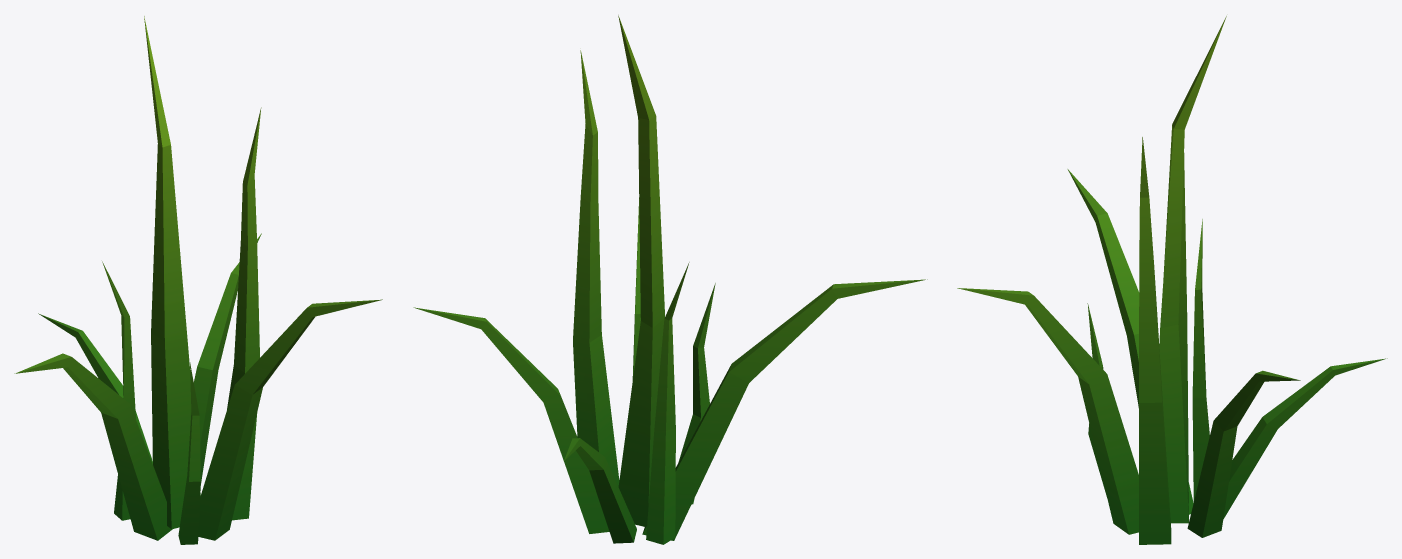
The model's file is Grass_03.fbx.
The picture shows the model from 3 angles, left to right: view 1: azimuth 30°, elevation 25°; view 2: azimuth 150°, elevation 25°; view 3: azimuth 270°, elevation 25°; orthographic projection. The views are drawn at different scales.
Parts seen in each view (by area): view 1: Grass_03; view 2: Grass_03; view 3: Grass_03.
Part boxes in pixels (left/top/right/bottom): Grass_03: left=14, top=16, right=382, bottom=544; Grass_03: left=413, top=15, right=927, bottom=544; Grass_03: left=957, top=16, right=1387, bottom=544.
Size of the model in its own units: 58.43 by 76.49 by 58.87.
